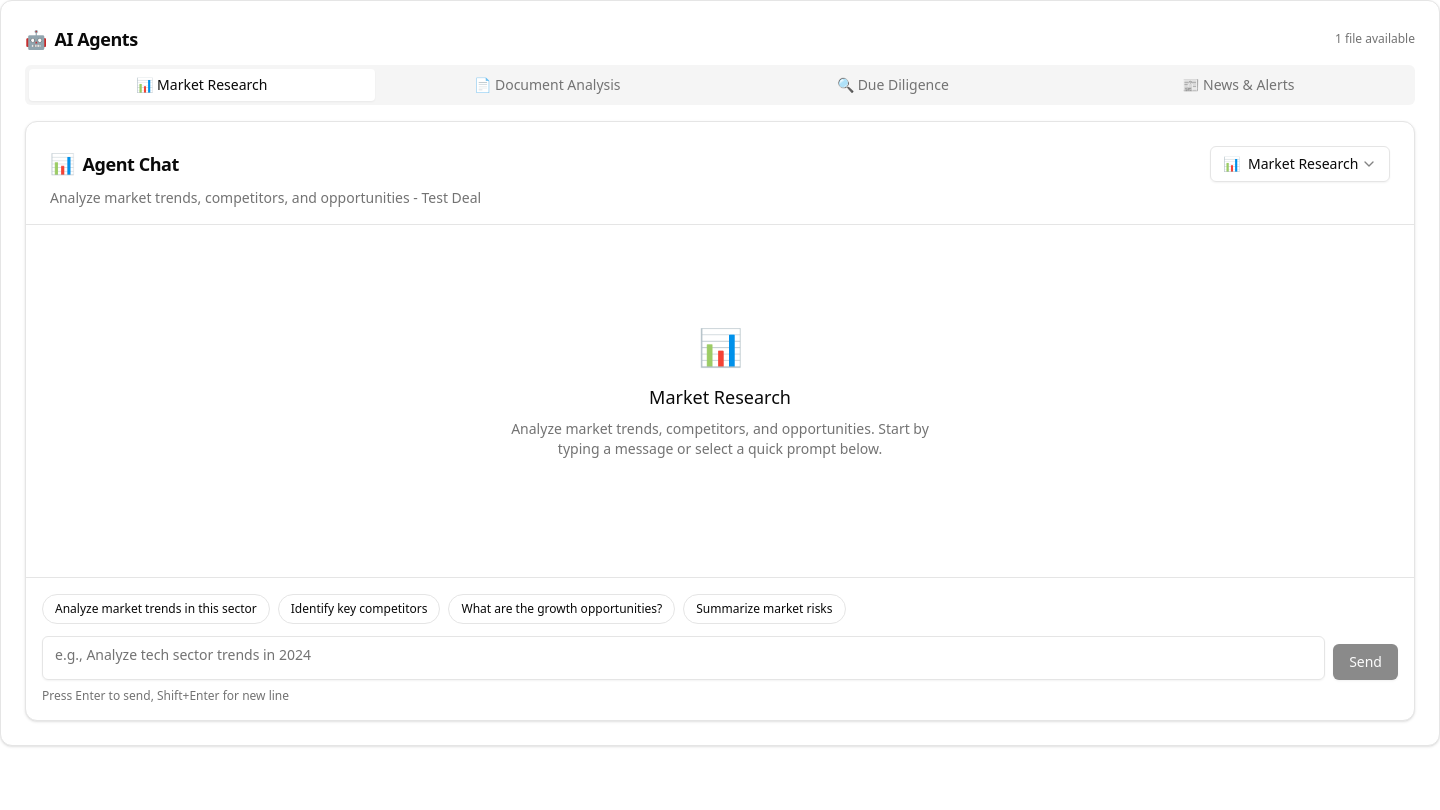
Test: AgentPanel › truncates long file names in quick actions
Click on Document Analysis tab
Click the tab "📄 Document Analysis" at (547, 85), box [374, 69, 720, 101]
(page scrolled)
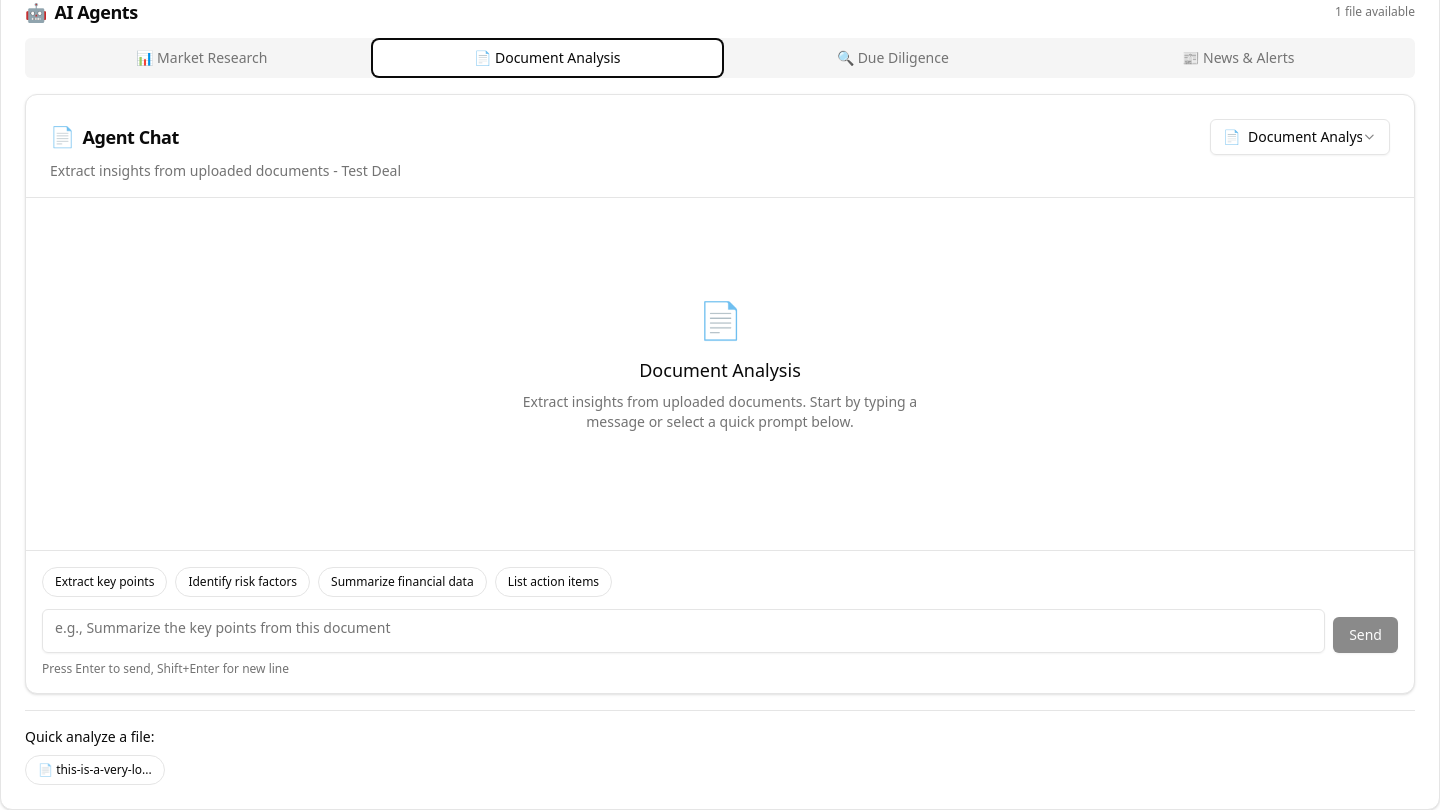
Result: the button "📄 this-is-a-very-lo..." is shown at [25, 755, 165, 785]
